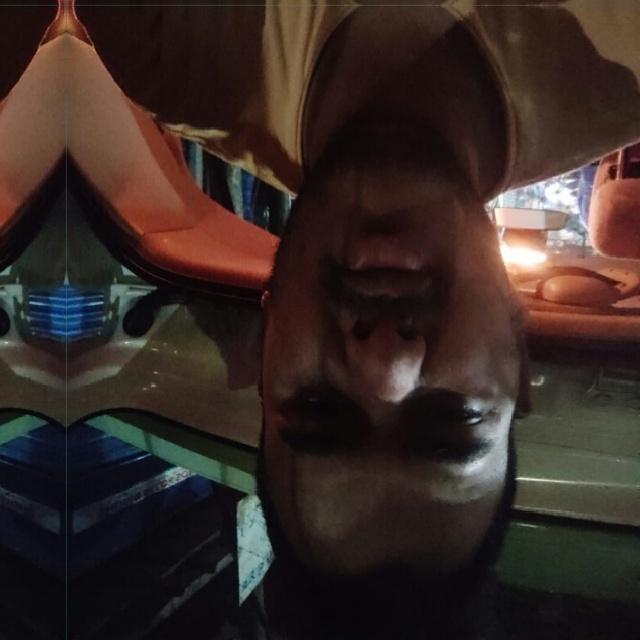Disgust: (200, 102, 579, 634)
